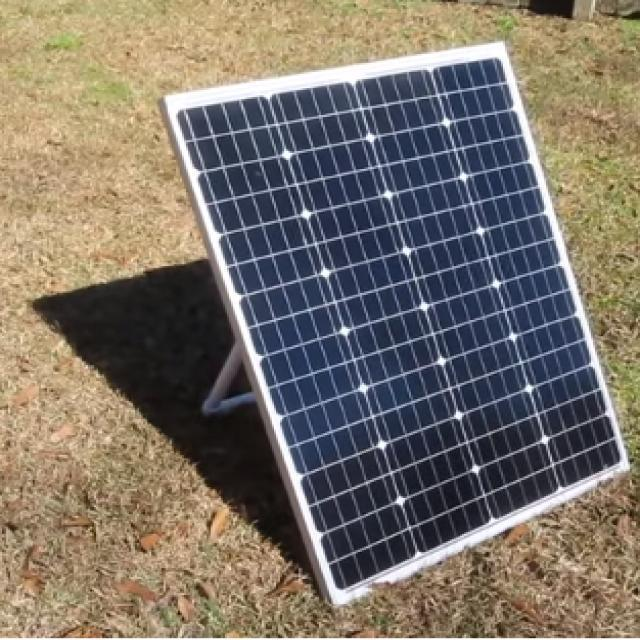Normal Solar Panel: (164, 41, 630, 606)
